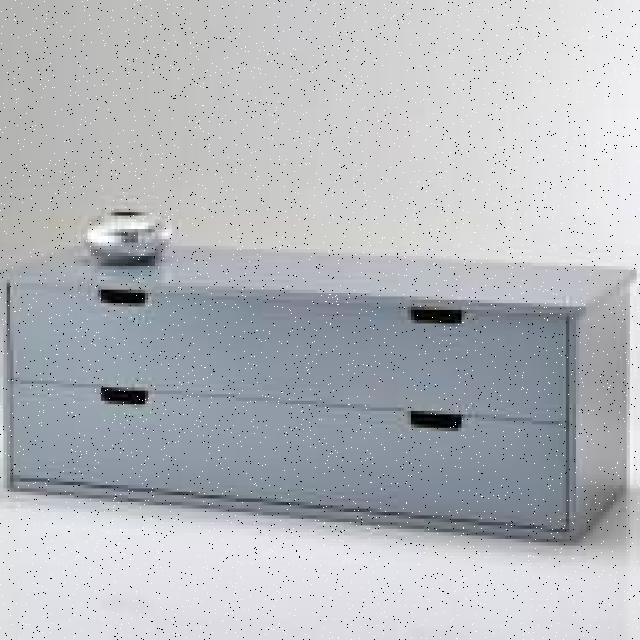mobile-phone: (2, 204, 636, 540)
